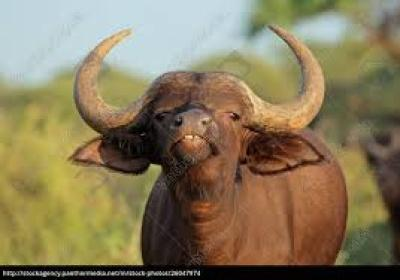buffalo: (70, 25, 345, 264)
